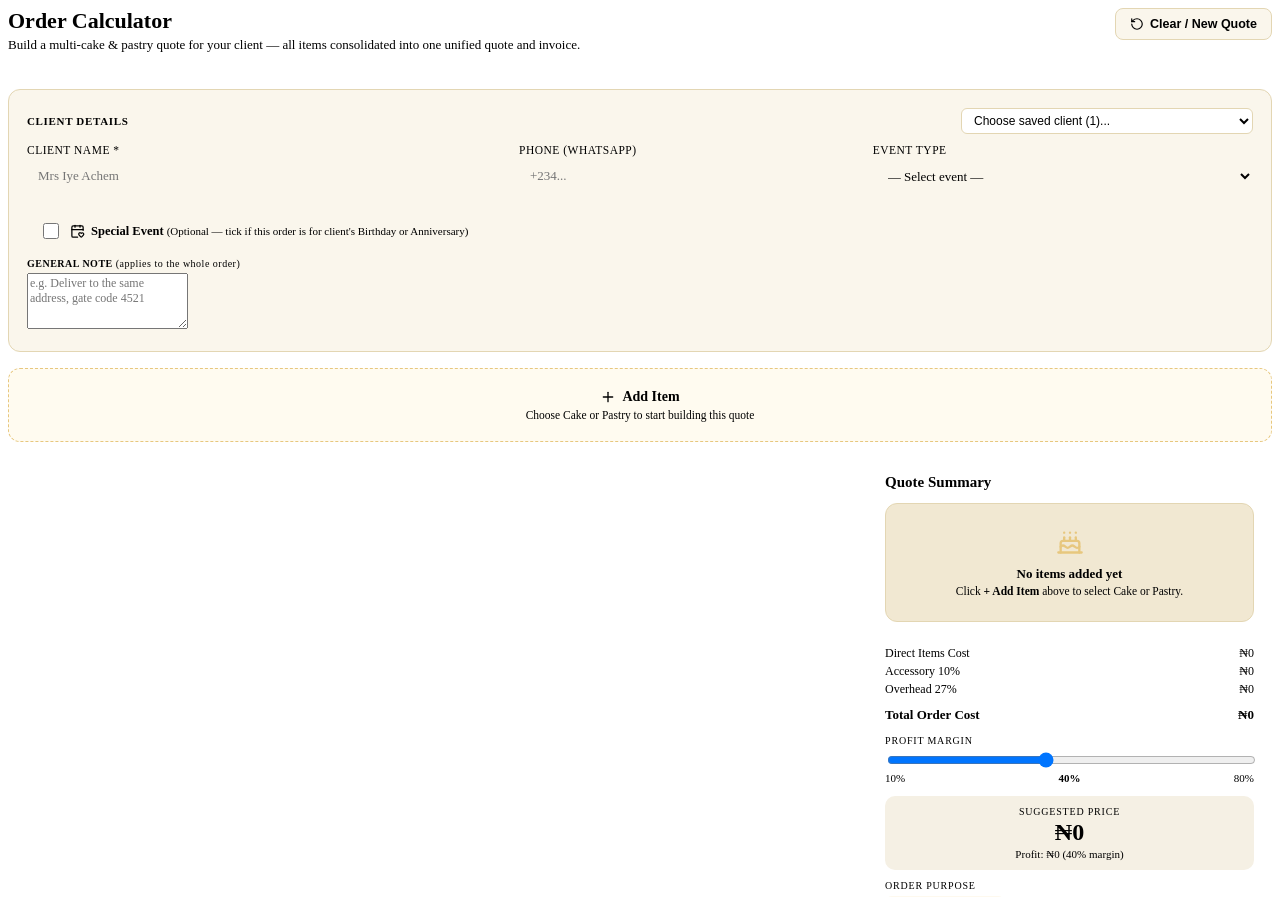
Test: Clients Directory & OrderCalculator — Birthday (No Year) › OrderCalculator: Special Event is an optional checkbox; ticking enables selection from client record
expect the checkbox is not checked: met, box [43, 223, 59, 239]
Select "Amina Yusuf (Birthday: 15 April) (08031112222)" in the dropdown in the row of "Client Details" at (1107,121), box [961, 108, 1253, 134]
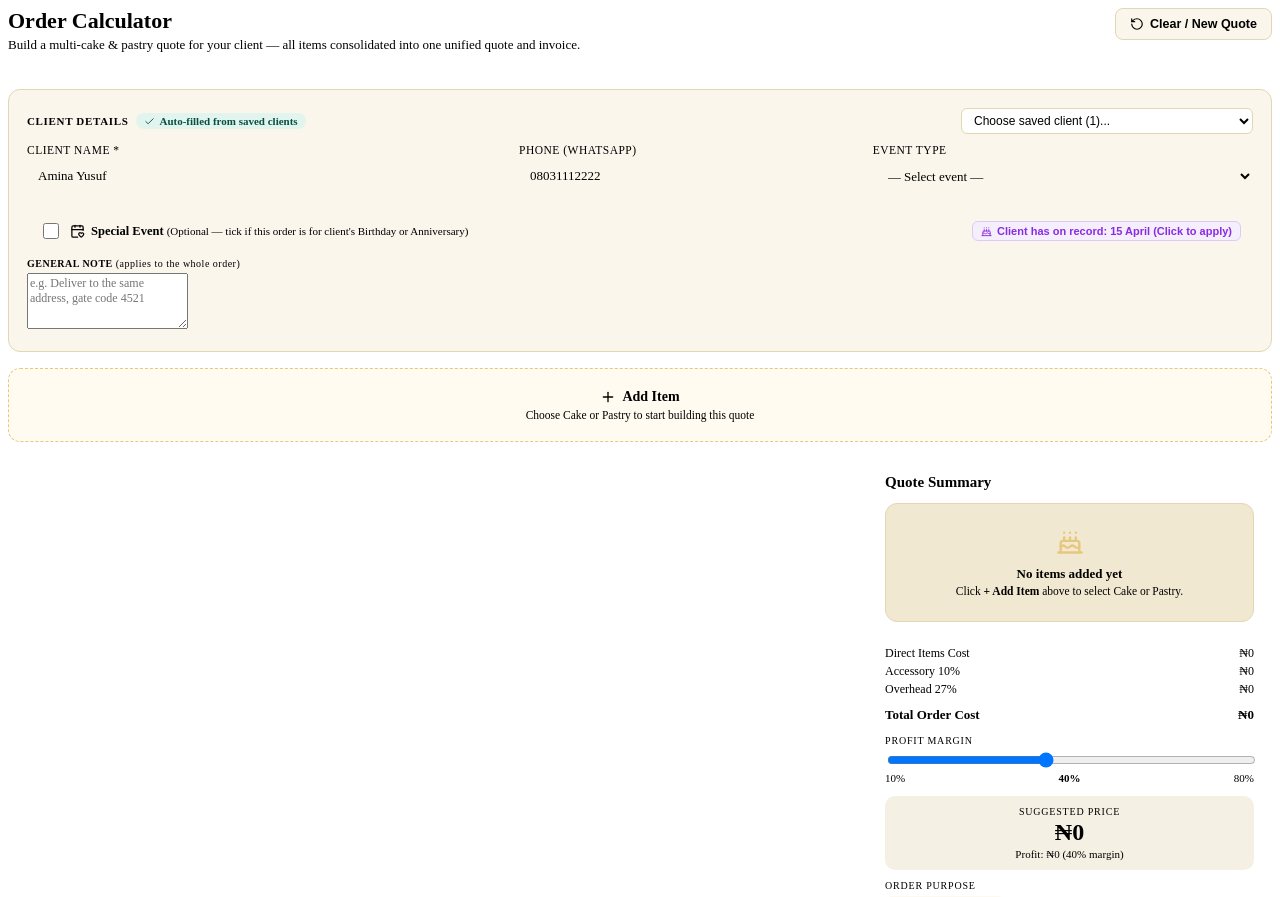
expect the text "15 April" is shown: met, box [1110, 225, 1150, 237]
Click the checkbox.
click(51, 231)  # box [43, 223, 59, 239]
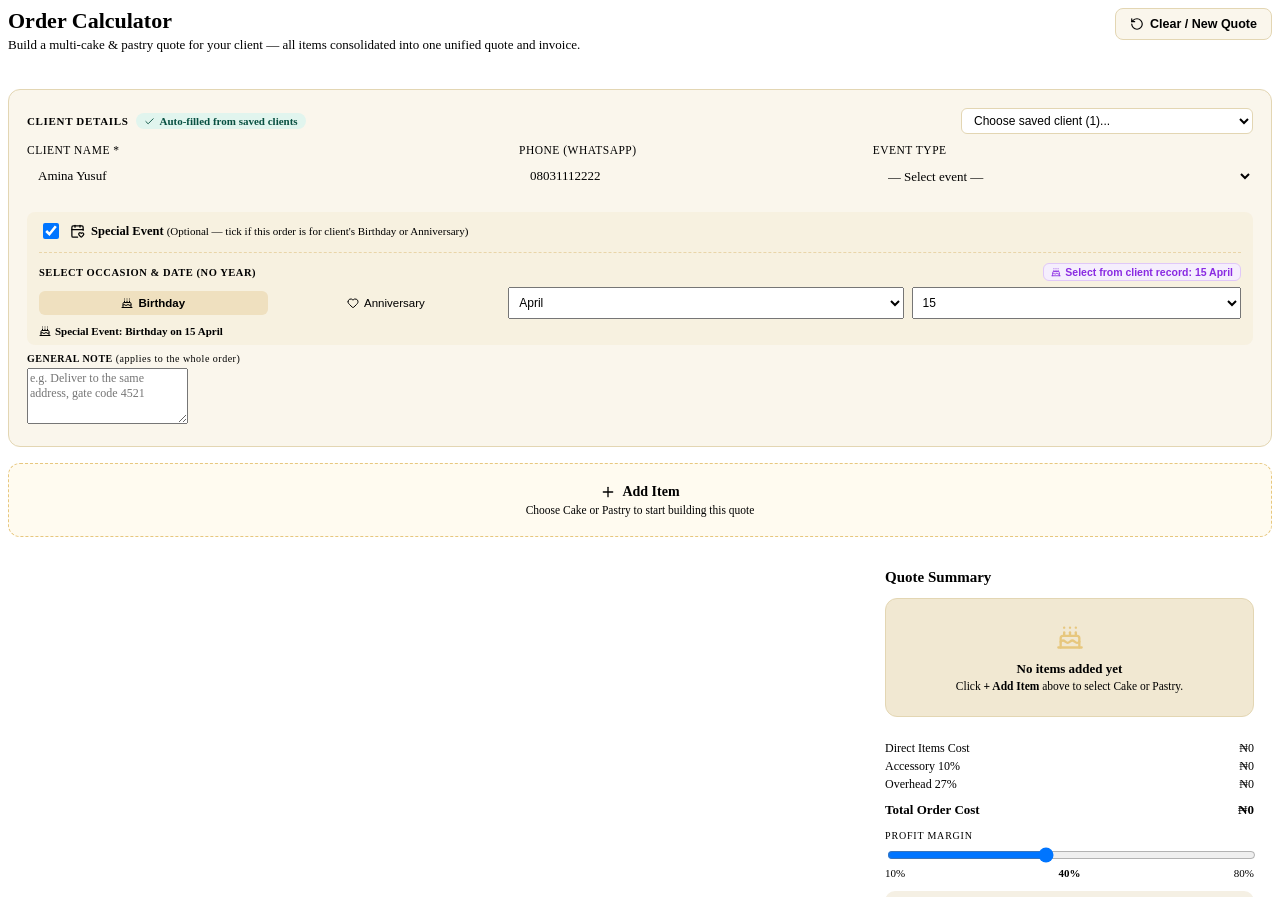
expect the checkbox is checked: met, box [43, 223, 59, 239]
expect the dropdown named "Special Date Month (No Year)" shows "April": met, box [508, 287, 904, 319]
expect the dropdown named "Special Date Day (No Year)" shows "15": met, box [912, 287, 1241, 319]
